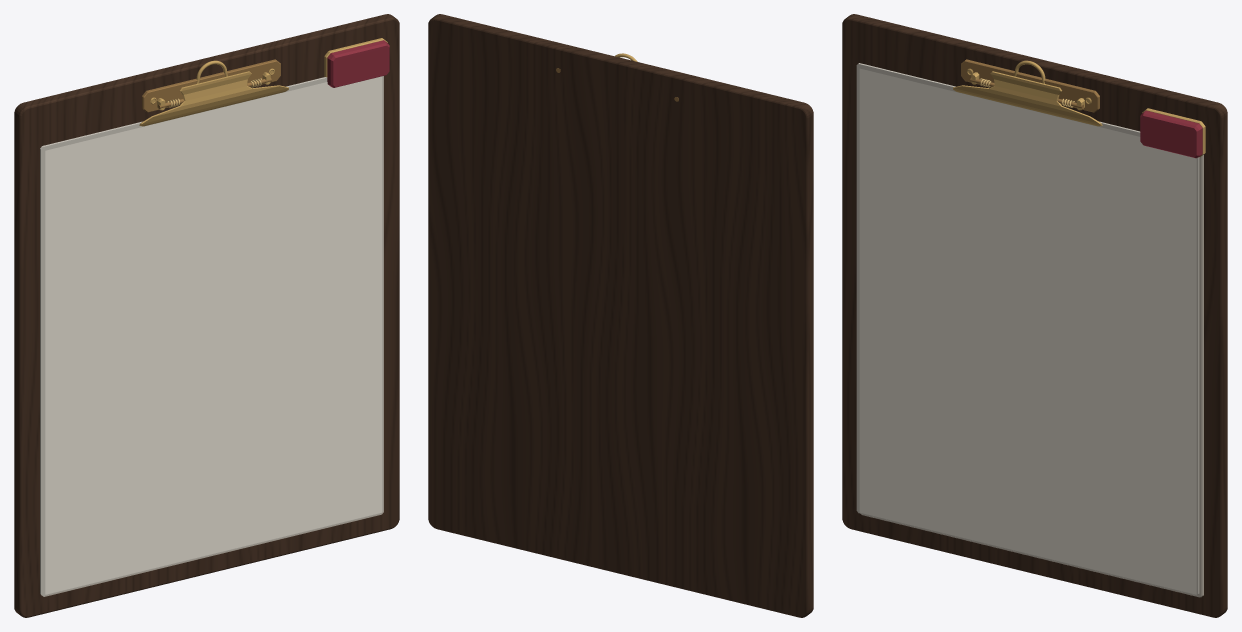
File: review-clipboard.glb
3 views of the same model, side by side, from view 1: azimuth 30°, elevation 25°; view 2: azimuth 150°, elevation 25°; view 3: azimuth 330°, elevation 25° (orthographic).
Visible parts, largest first — view 1: Review_Card_Face, Clipboard_Board, Clipboard_Papers, Clipboard_Clip, Review_Dismiss_Face, Review_Dismiss_Btn; view 2: Clipboard_Board; view 3: Review_Card_Face, Clipboard_Board, Clipboard_Papers, Clipboard_Clip, Review_Dismiss_Face, Review_Dismiss_Btn.
Part boxes in pixels (x1,y1,x2,y2): Review_Card_Face: (45, 76, 382, 594); Clipboard_Board: (14, 14, 399, 617); Clipboard_Papers: (40, 76, 383, 596); Clipboard_Clip: (139, 59, 288, 126); Review_Dismiss_Face: (336, 47, 387, 85); Review_Dismiss_Btn: (324, 38, 389, 87); Clipboard_Board: (428, 14, 813, 617); Review_Card_Face: (859, 68, 1196, 594); Clipboard_Board: (842, 14, 1227, 617); Clipboard_Papers: (856, 63, 1203, 597); Clipboard_Clip: (953, 59, 1102, 126); Review_Dismiss_Face: (1142, 118, 1193, 155); Review_Dismiss_Btn: (1140, 108, 1205, 158).
Size of the model in its own units: 0.296 by 0.382 by 0.0194.
Materials: 6 (1 with a texture image).
